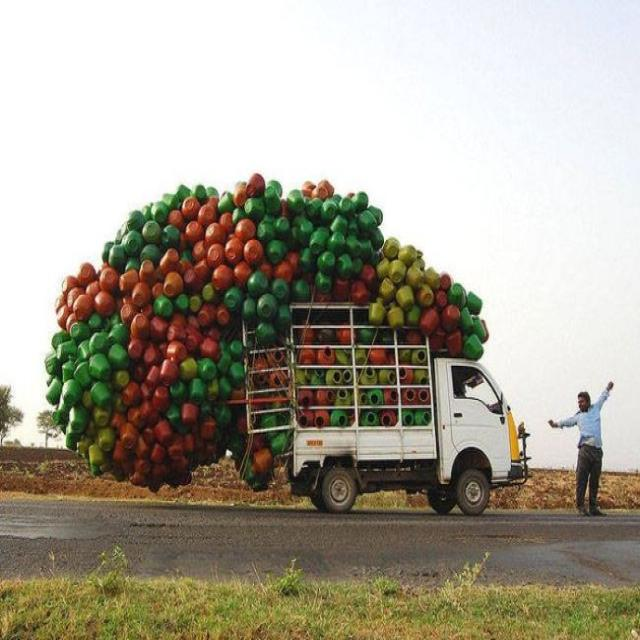overloaded_truck: (43, 143, 532, 542)
